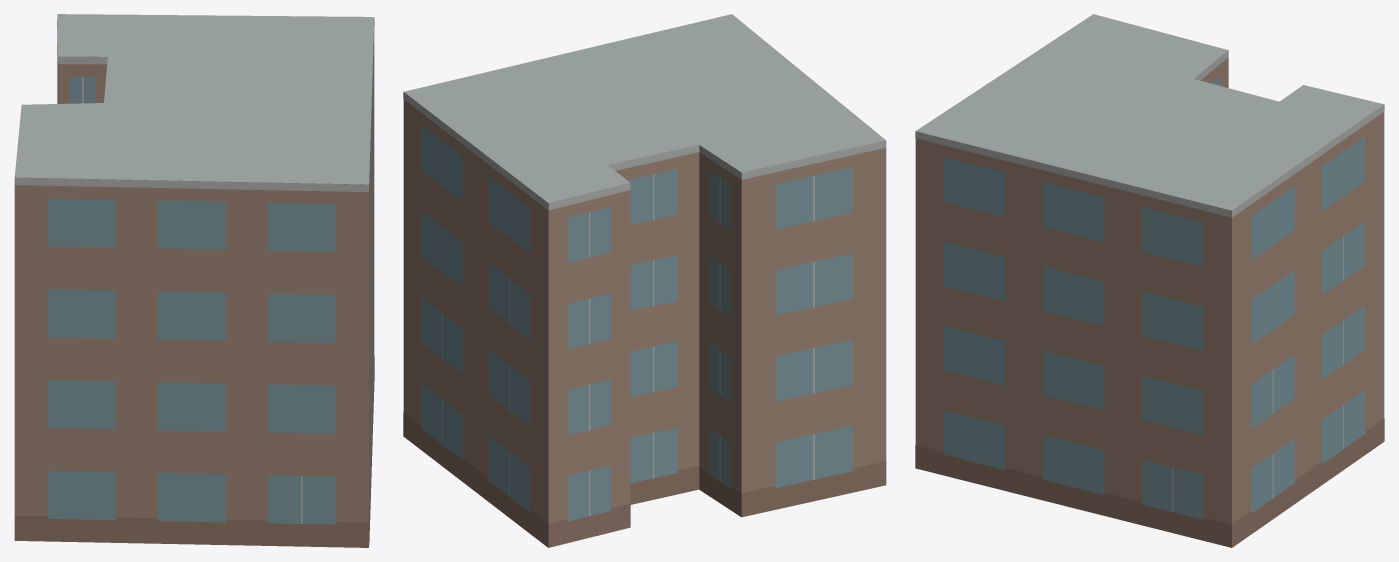
Rendered from survey-upis-32777503.glb.
The picture shows the model from 3 angles, left to right: view 1: azimuth 30°, elevation 25°; view 2: azimuth 150°, elevation 25°; view 3: azimuth 270°, elevation 25°; orthographic projection. The views are drawn at different scales.
Visible parts, largest first — view 1: survey-upis-32777503.tmp; view 2: survey-upis-32777503.tmp; view 3: survey-upis-32777503.tmp.
Boxes of the visible parts, x1,y1,x2,y2 form: survey-upis-32777503.tmp: (14,14,374,547); survey-upis-32777503.tmp: (403,14,886,547); survey-upis-32777503.tmp: (915,14,1384,547).
Size of the model in its own units: 14.52 by 11.6 by 14.63.
